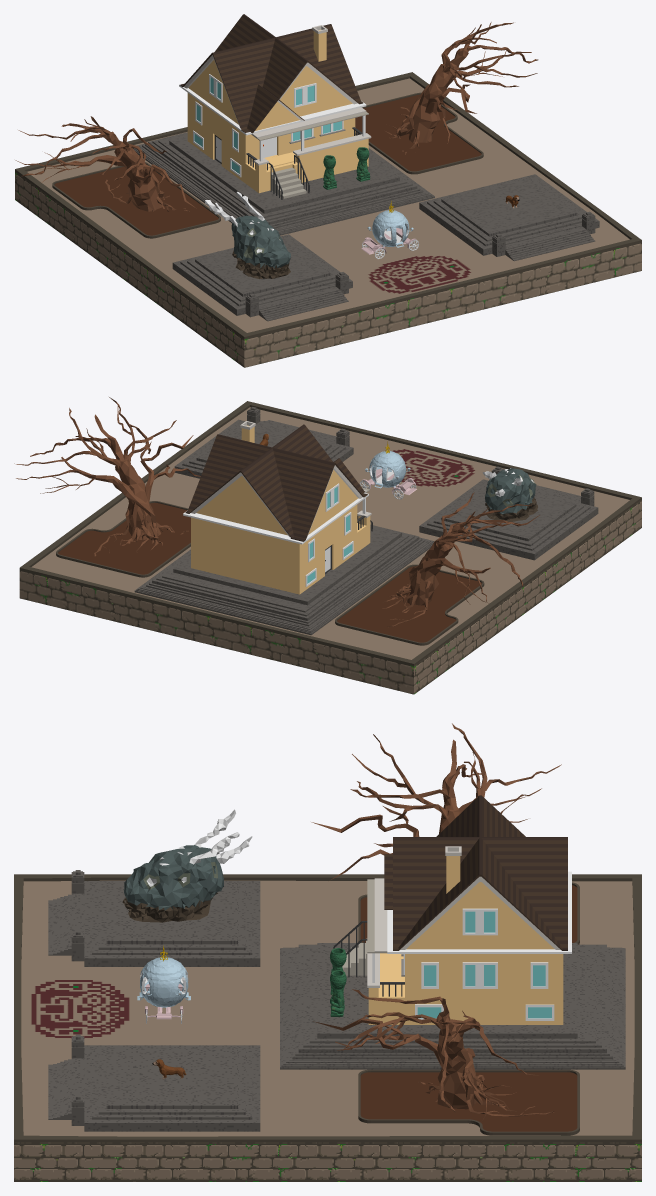
The picture shows the model from 3 angles, top to bottom: view 1: azimuth 30°, elevation 25°; view 2: azimuth 150°, elevation 25°; view 3: azimuth 270°, elevation 25°; orthographic projection. The views are drawn at different scales.
Parts seen in each view (by area): view 1: Cube.011, Cube.235, OBJRANDOM_METEORITE, VEHICLES_FANTASY_CARRIAGE; view 2: Cube.011, Cube.235, OBJRANDOM_METEORITE, VEHICLES_FANTASY_CARRIAGE; view 3: Cube.011, Cube.235, OBJRANDOM_METEORITE, VEHICLES_FANTASY_CARRIAGE.
Boxes of the visible parts, x1,y1,x2,y2 form: Cube.011: (15,22,641,367); Cube.235: (179,14,371,199); OBJRANDOM_METEORITE: (205,191,290,279); VEHICLES_FANTASY_CARRIAGE: (361,201,418,259); Cube.011: (14,397,641,694); Cube.235: (183,421,372,594); OBJRANDOM_METEORITE: (482,468,537,521); VEHICLES_FANTASY_CARRIAGE: (359,441,416,499); Cube.011: (14,723,641,1181); Cube.235: (333,795,571,1024); OBJRANDOM_METEORITE: (122,809,252,922); VEHICLES_FANTASY_CARRIAGE: (137,945,190,1023).
Bounding box in the file's own units: 5099 × 1610 × 4000.
Materials: 31 (6 with a texture image).
